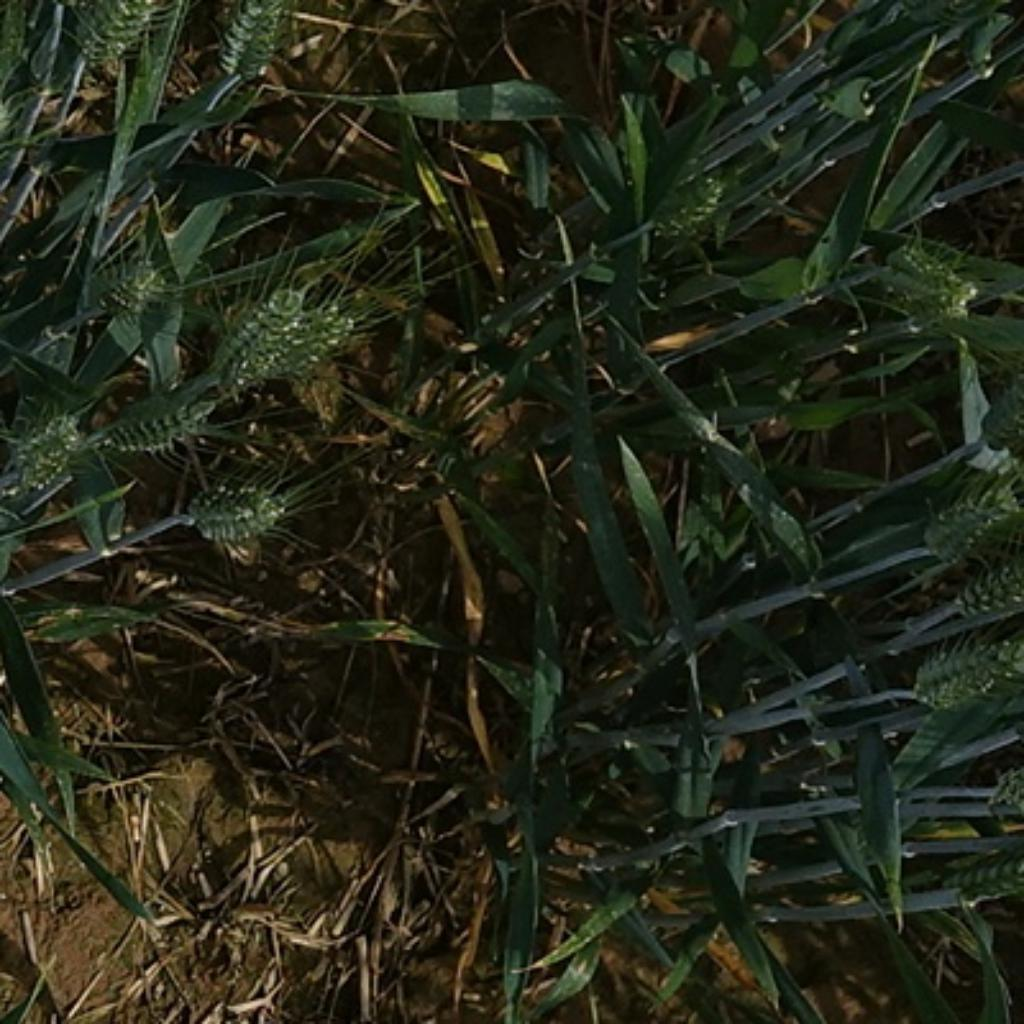0-0: (864, 227, 1013, 339), (231, 298, 359, 401), (92, 373, 222, 458), (640, 143, 742, 250), (207, 273, 306, 380), (915, 477, 1024, 562), (179, 468, 291, 547), (76, 238, 176, 325), (0, 401, 89, 494), (217, 2, 299, 94), (949, 831, 1024, 920), (916, 640, 1024, 701), (934, 561, 1024, 630), (79, 2, 153, 66)
